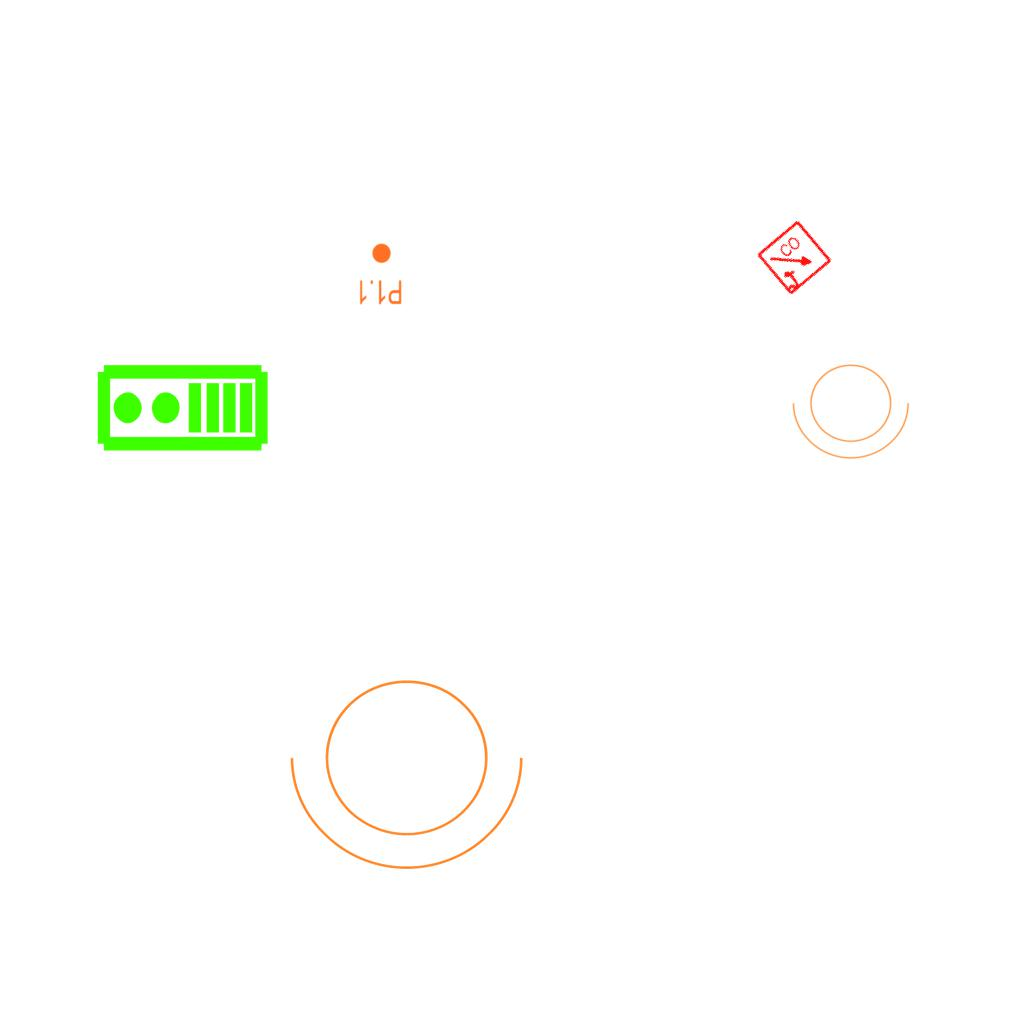Downlight_LED_Einbauleuchten_Flur: (357, 242, 403, 306)
Gegensprechanlage_mit_Video: (94, 362, 270, 457)
ROA_Rauchmelder_optisch_mit_Signalgeber_(Sockelsirene): (755, 218, 835, 298)
Scheinwerfer_fuer_Alarmbeleuchtung: (281, 655, 545, 880), (788, 352, 920, 464)
